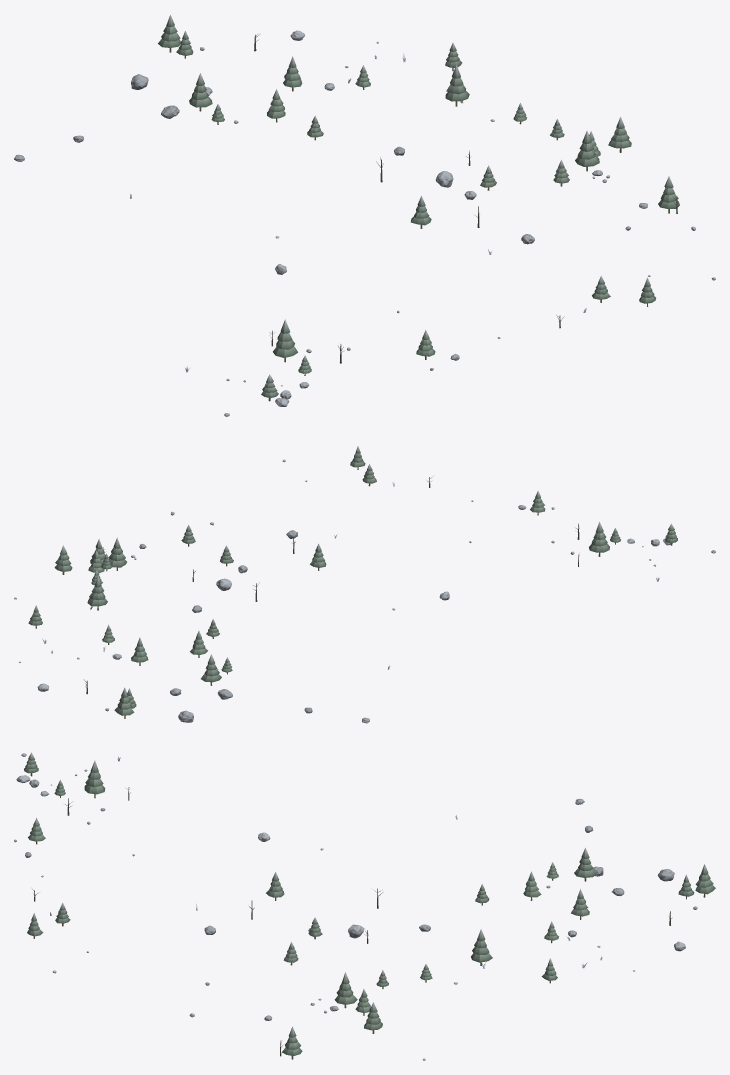
File: frost_land_scatter_c19_12.glb
3 renders of one model, top to bottom at view 1: azimuth 30°, elevation 25°; view 2: azimuth 150°, elevation 25°; view 3: azimuth 270°, elevation 25°, orthographic. The views are drawn at different scales.
Parts seen in each view (by area): view 1: frost_land_scatter_c19_12; view 2: frost_land_scatter_c19_12; view 3: frost_land_scatter_c19_12.
Part boxes in pixels (<box>): frost_land_scatter_c19_12: <box>14,14,715,416</box>; frost_land_scatter_c19_12: <box>14,446,715,723</box>; frost_land_scatter_c19_12: <box>14,752,715,1060</box>.
Size of the model in its own units: 236 by 35.11 by 260.
